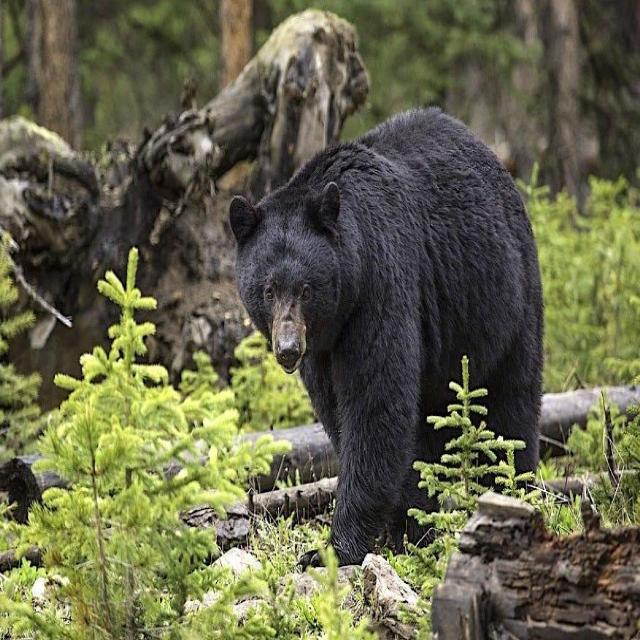Bear: (227, 108, 544, 568)
